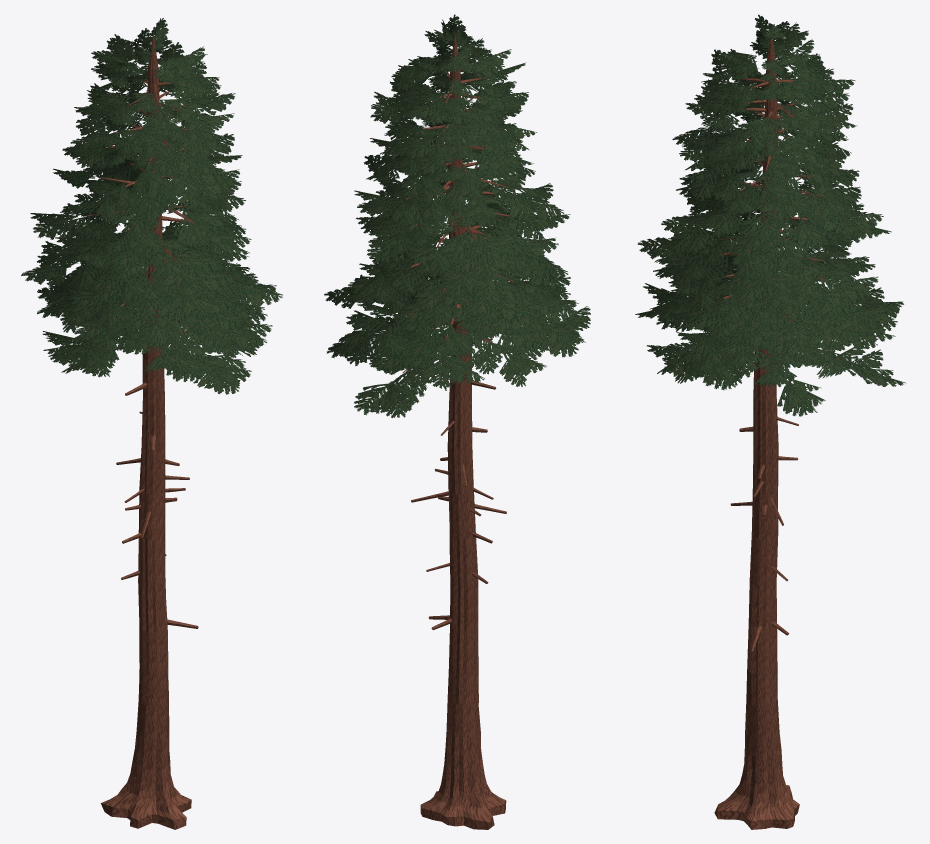
Rendered from environment_redwood5_v2.fbx.
The picture shows the model from 3 angles, left to right: view 1: azimuth 30°, elevation 25°; view 2: azimuth 150°, elevation 25°; view 3: azimuth 270°, elevation 25°; orthographic projection.
Visible parts, largest first — view 1: environment_redwood5_v2_lod0; view 2: environment_redwood5_v2_lod0; view 3: environment_redwood5_v2_lod0.
Boxes of the visible parts, x1,y1,x2,y2 form: environment_redwood5_v2_lod0: (21,18,282,829); environment_redwood5_v2_lod0: (324,14,590,829); environment_redwood5_v2_lod0: (635,14,905,829).
Size of what is drawn, in the model's own units: 2853 by 9036 by 2919.
